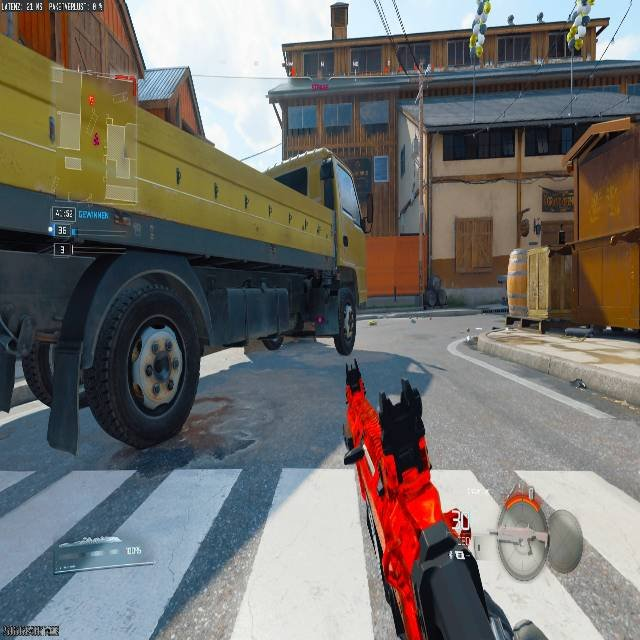player: (424, 273, 445, 310)
